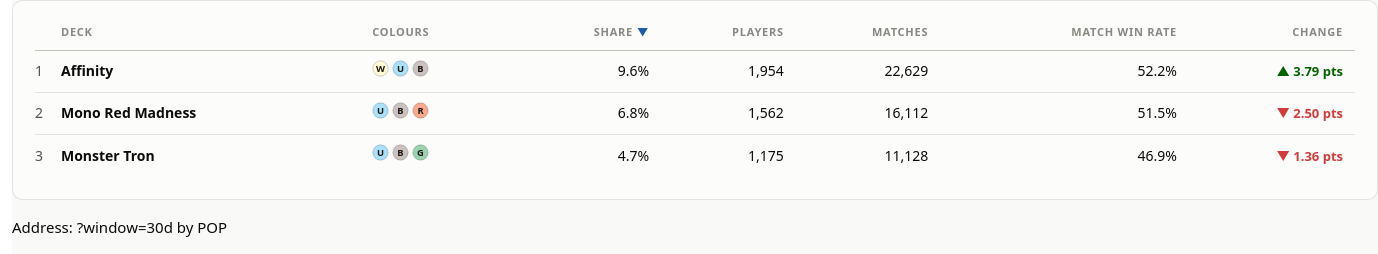
Scenario: DeckTable › writes a new sort into the address, replacing the history entry
This screenshot has width=1378, height=254.
What coordinates should you click on to do the following:
click the button "Deck"
I would click on:
 (77, 32)
Its box is [61,23,93,41].
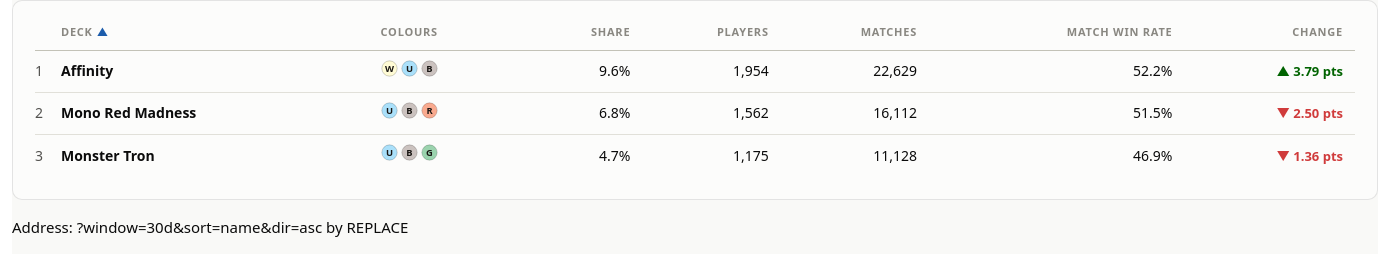
Check: the text "Address: ?window=30d&sort=name&dir=asc by REPLACE" is shown, box [12,217,408,237]
What coordinates should you click on to do the following:
click the button "Deck ▲"
I would click on:
 (85, 32)
Its box is [61,23,109,41].
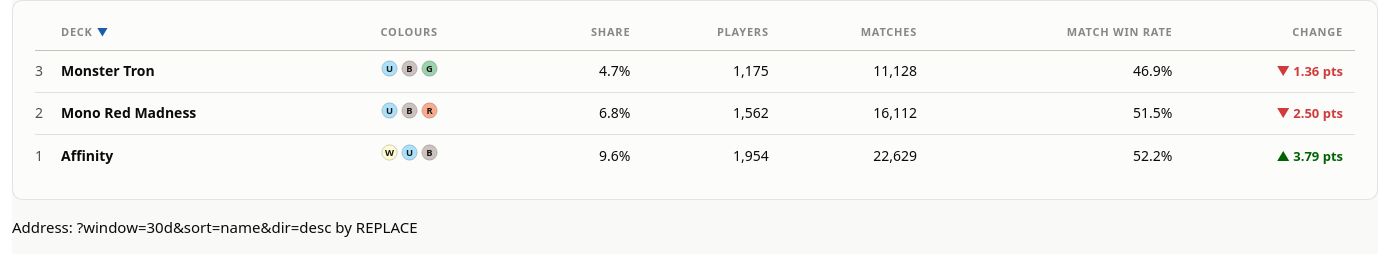
Check: the text "Address: ?window=30d&sort=name&dir=desc by REPLACE" is shown, box [12,217,418,237]
